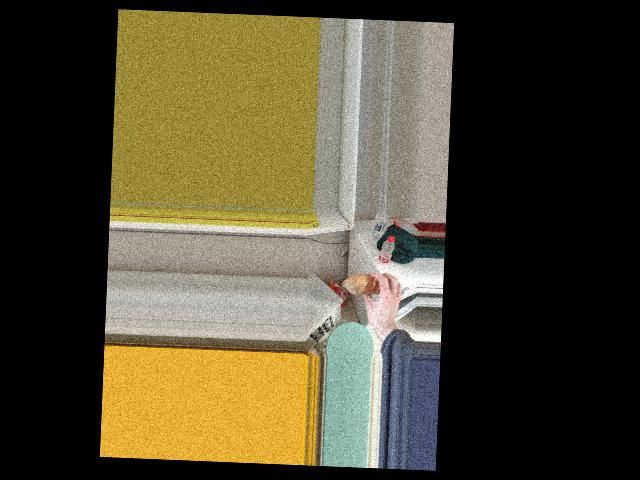sweet_potato: (350, 273, 382, 295)
